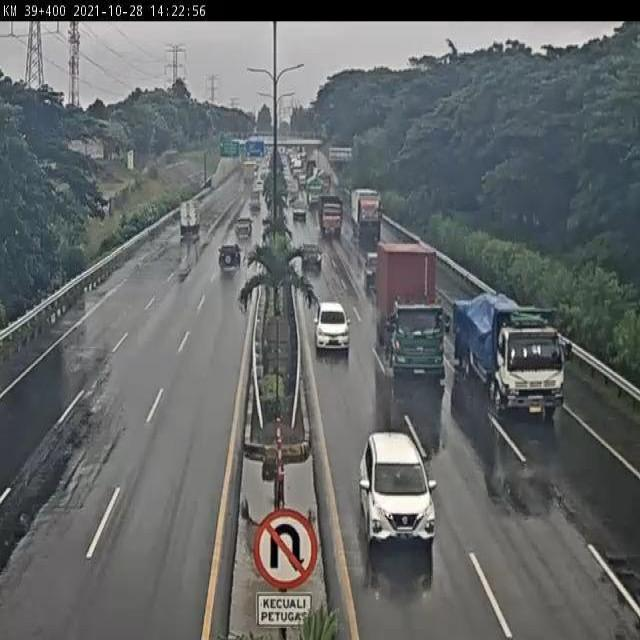truck-l-: (449, 291, 573, 417), (350, 188, 382, 243)
truck-s-: (318, 196, 344, 240)
truck-xl-: (377, 241, 452, 384)
